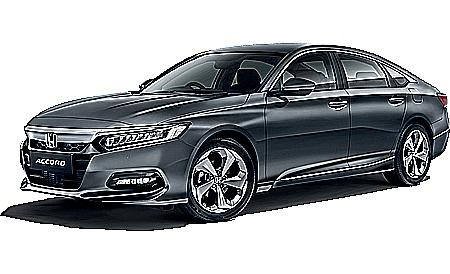Car hood: (32, 91, 250, 128)
Fender - -F-L-: (172, 90, 270, 199)
Fender - -R-L-: (389, 60, 445, 173)
Front bumper: (15, 140, 197, 213)
Headlight - -L-: (99, 120, 189, 155)
Passenger-s door - -F-L-: (261, 38, 353, 198)
Passenger-s door - -R-L-: (329, 37, 410, 199)
Rear bumper: (430, 125, 450, 161)
Rear light - -L-: (436, 92, 447, 111)
Side bumper - -L-: (254, 154, 398, 208)
Side mirror - -L-: (272, 76, 316, 101)
